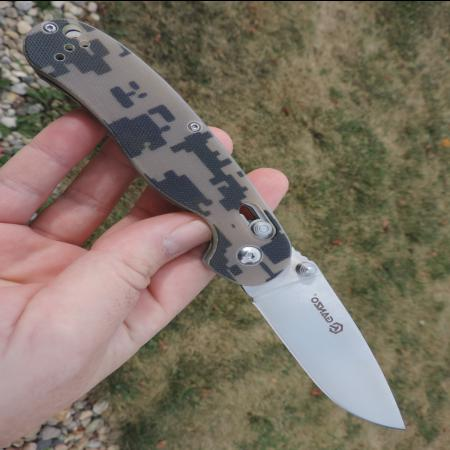long weapon: (132, 155, 422, 435)
